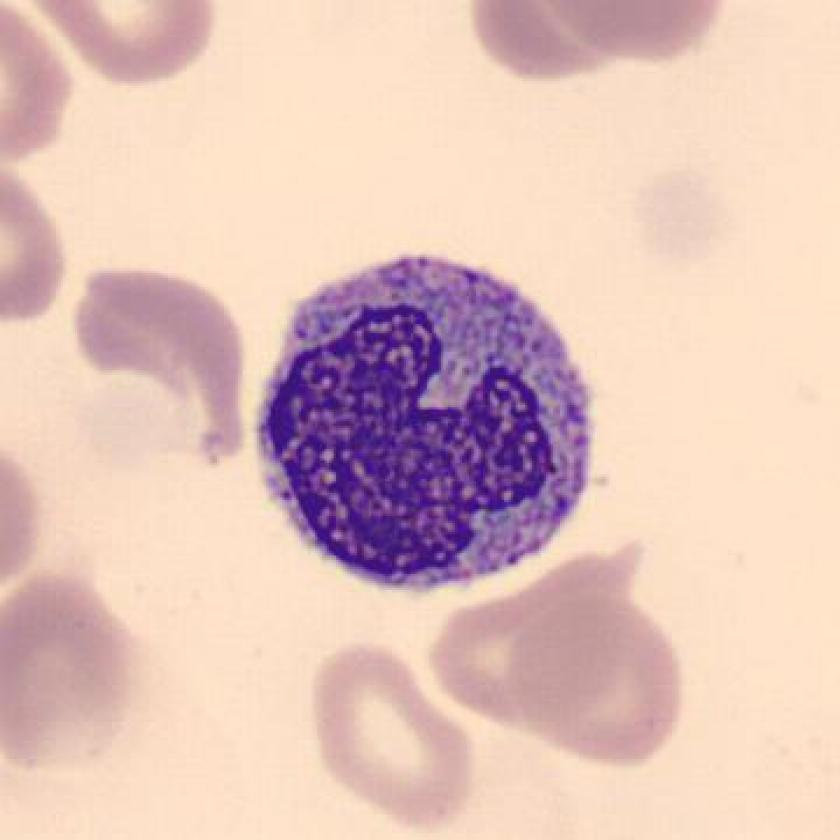monocyte: (230, 230, 633, 621)
